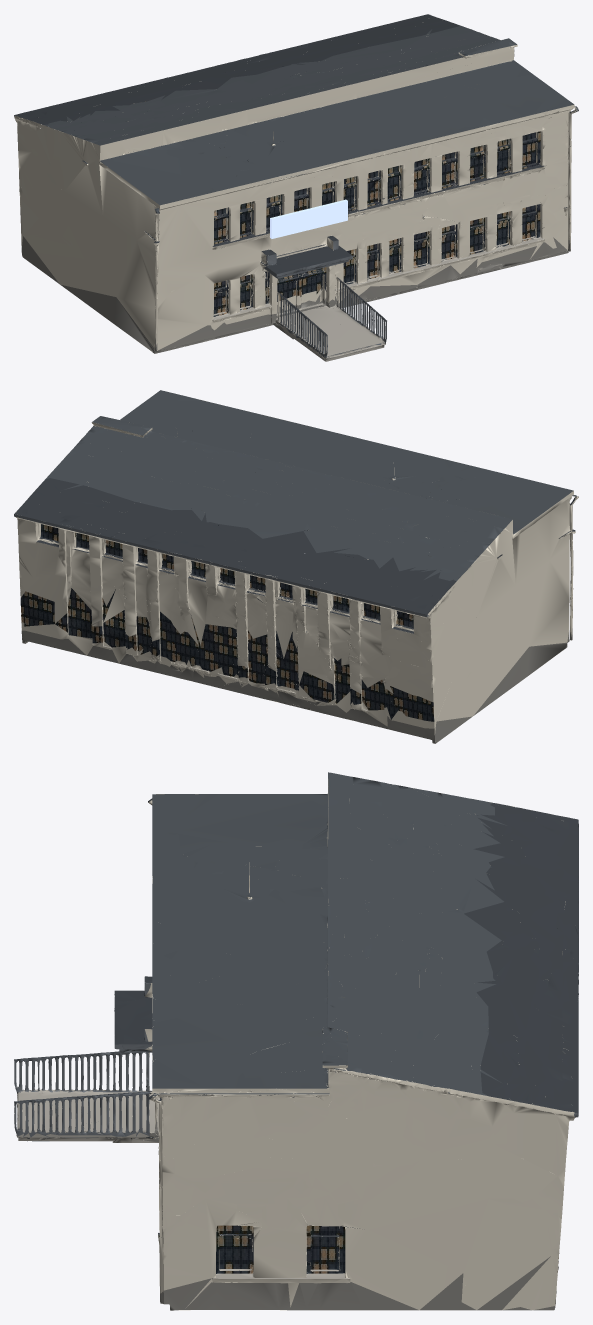
Rendered from office-l2.glb.
3 views of the same model, one above another, from view 1: azimuth 30°, elevation 25°; view 2: azimuth 150°, elevation 25°; view 3: azimuth 270°, elevation 25° (orthographic). The views are drawn at different scales.
Parts seen in each view (by area): view 1: Office2, LogoSign; view 2: Office2; view 3: Office2.
Part boxes in pixels (left/top/right/bottom): Office2: left=14, top=14, right=578, bottom=361; LogoSign: left=270, top=199, right=347, bottom=238; Office2: left=14, top=390, right=578, bottom=743; Office2: left=14, top=772, right=578, bottom=1310.
Size of the model in its own units: 17.78 by 7.35 by 14.17.
8 materials, 1 textured.
